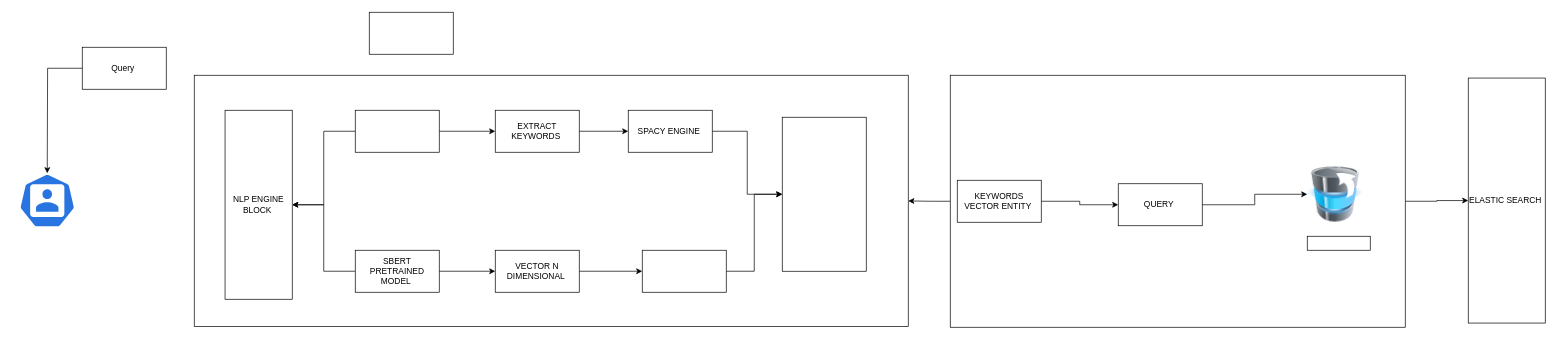
The diagram is 1558 pixels wide and 340 high, and some of its shapes have lost their labels. The shapes that lost their labels are listed below. From the top down, each one's centre as x and y in pixels, then its label:
the point at 411,33: BLOCK 1
the point at 397,131: REMOVE STOP WORDS
the point at 824,194: VECTOR KEYWORDS ENTITY RECOGNITION
the point at 1338,243: DATABASE
the point at 684,271: FLATTEN VECTOR
